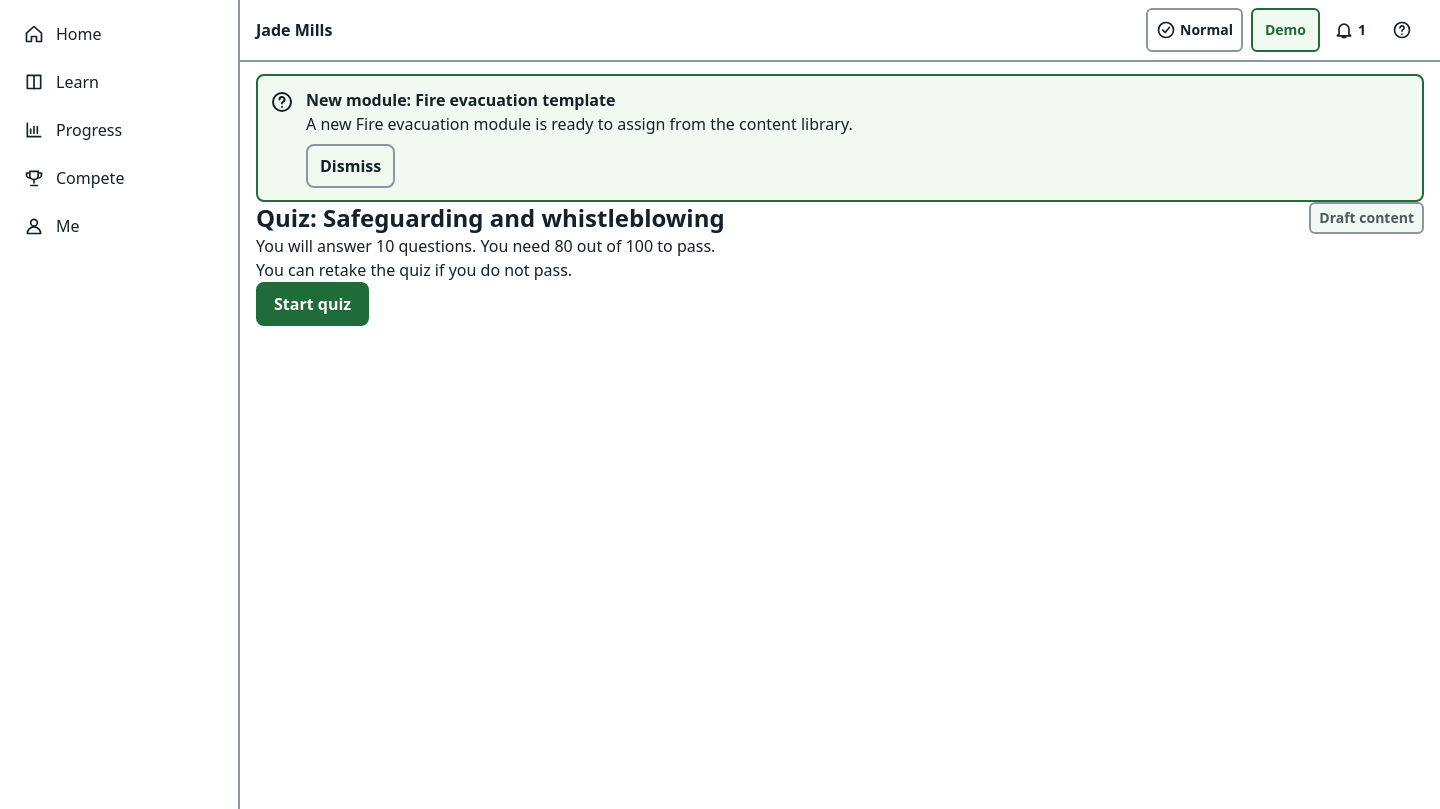
it: S6 read-aloud Pause › shows Pause while the question is being read; Pause stops speech and offers Read this aloud again
Click the button "Start quiz" at [313, 304], box [256,282,369,326]
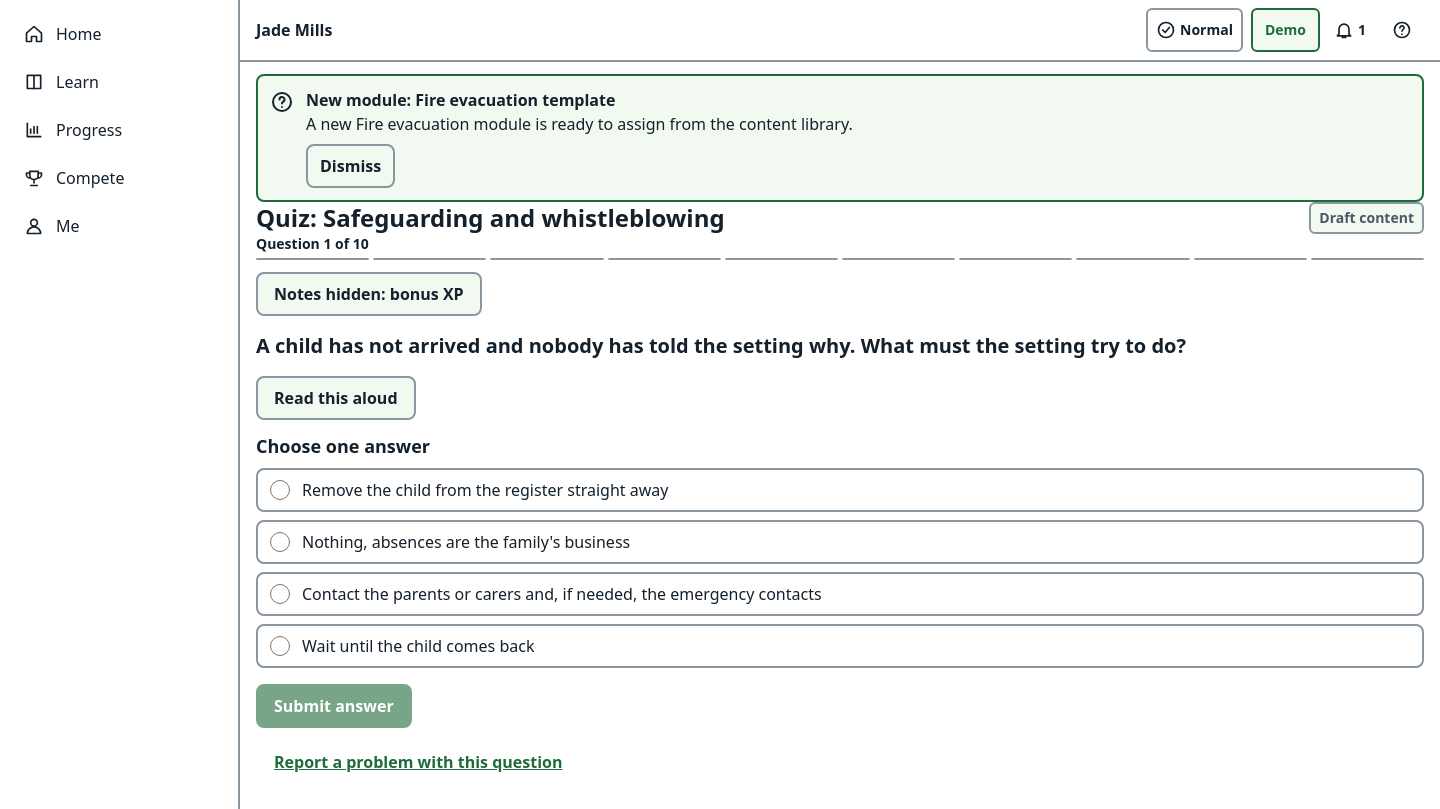
Expected: the button "Pause" is not shown
Expected: the heading with test id "question-prompt" is shown, [256,332,1186,359]
Click the button "Read this aloud" at [336, 398], box [256,376,416,420]
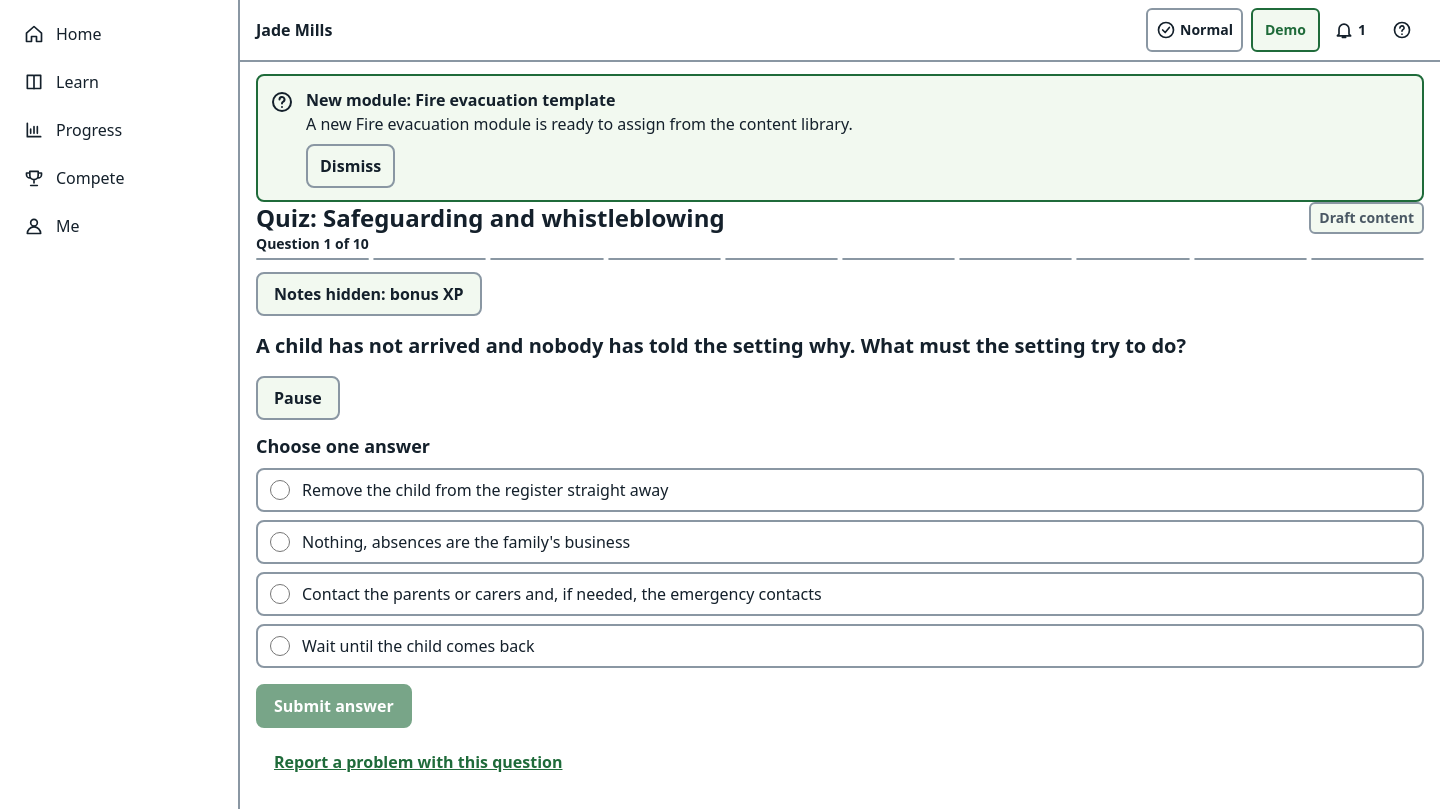
Click the button "Pause" at [298, 398], box [256,376,340,420]
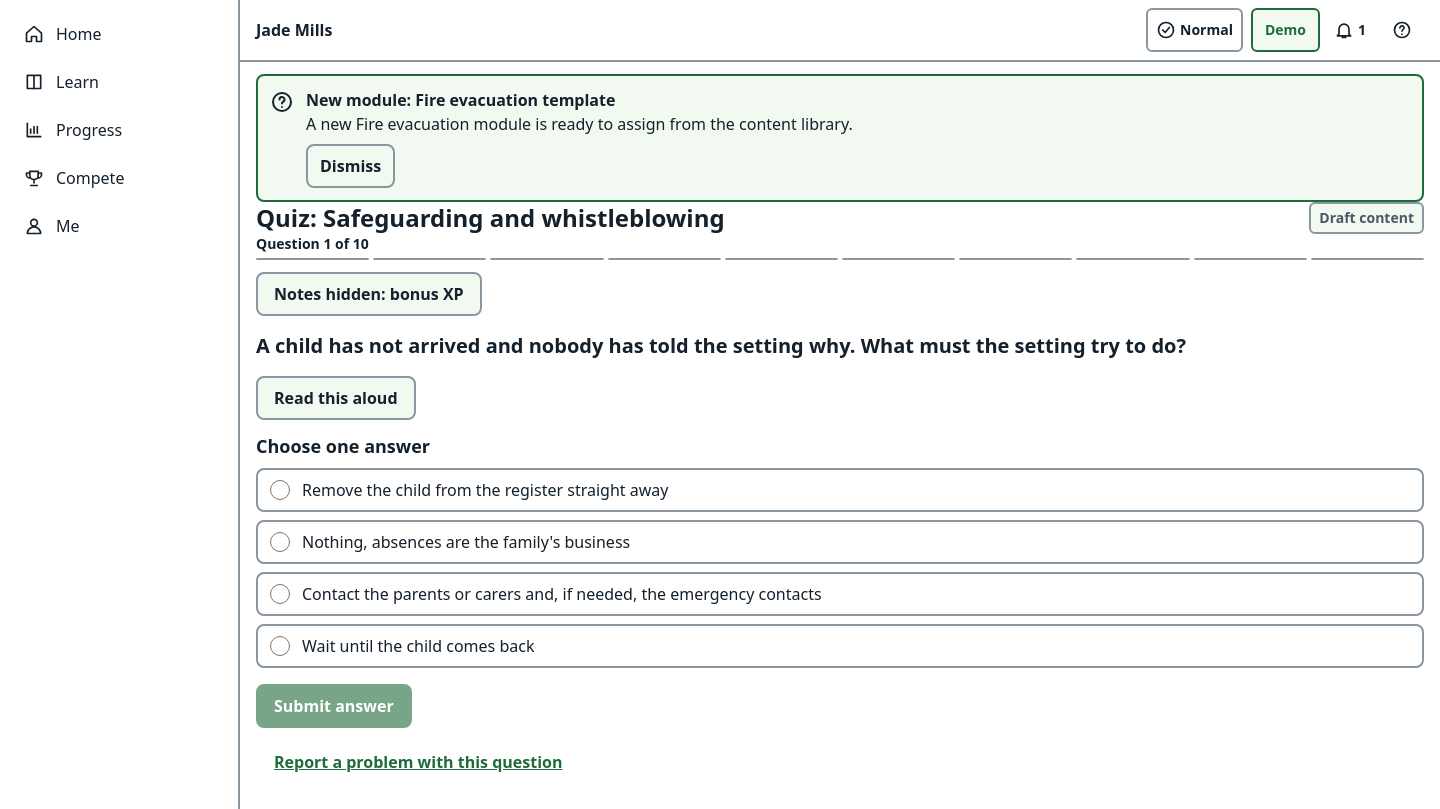
Expected: the button "Pause" is gone
Expected: the button "Read this aloud" is shown, [256,376,416,420]
